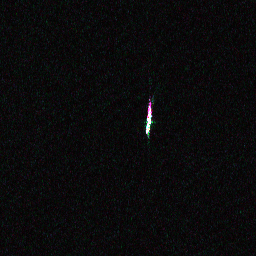ship: (144, 110, 154, 136)
